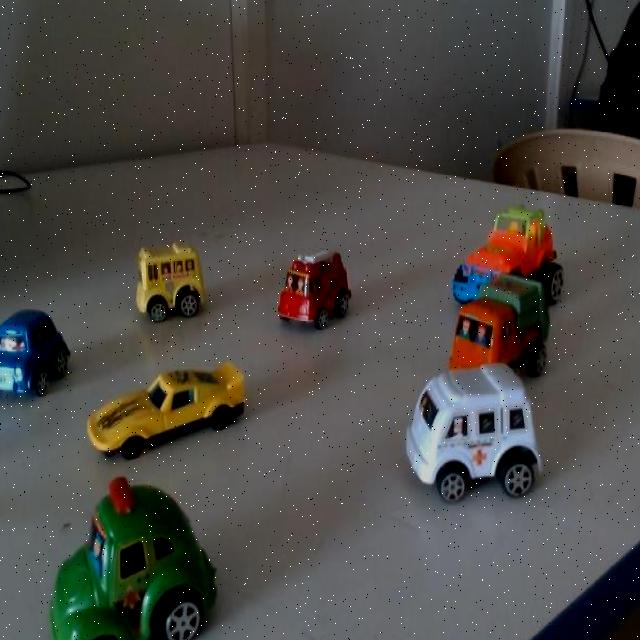car: (376, 338, 531, 532), (36, 486, 187, 640), (93, 348, 231, 475), (439, 196, 532, 314), (121, 234, 213, 340), (452, 262, 525, 390), (276, 235, 354, 348), (0, 305, 55, 406)
